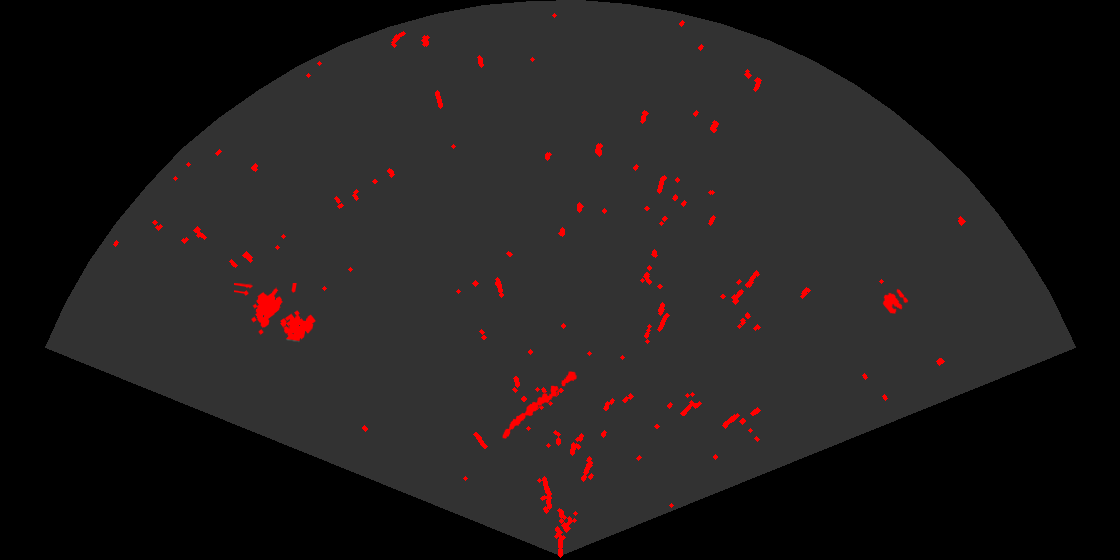ball: (881, 287, 910, 315)
cage: (234, 283, 317, 343)
chain: (501, 370, 579, 440)
